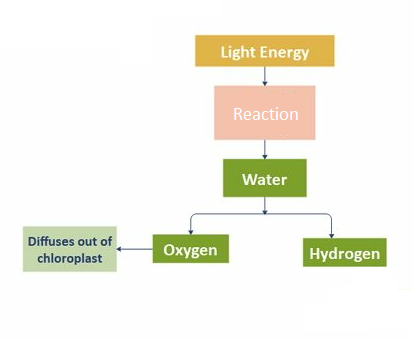arrow: (267, 211, 334, 237), (187, 212, 261, 234), (117, 244, 152, 252), (261, 141, 267, 160), (262, 66, 267, 85), (262, 197, 267, 214)
process: (213, 85, 316, 142), (21, 225, 118, 274), (194, 34, 335, 67), (222, 158, 308, 198), (301, 237, 388, 269), (151, 233, 231, 265)
text: (26, 235, 113, 266), (218, 45, 310, 62), (306, 247, 382, 263), (232, 106, 298, 122), (162, 243, 216, 260), (241, 172, 289, 189)
